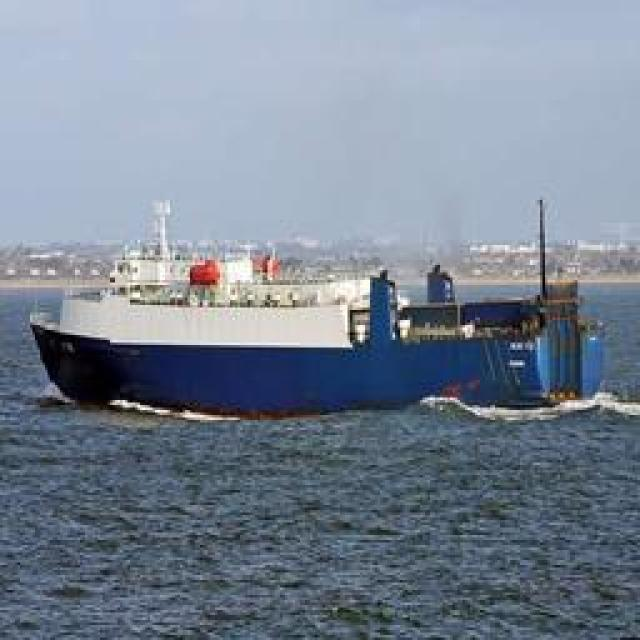CIV_Ship: (24, 244, 616, 422)
